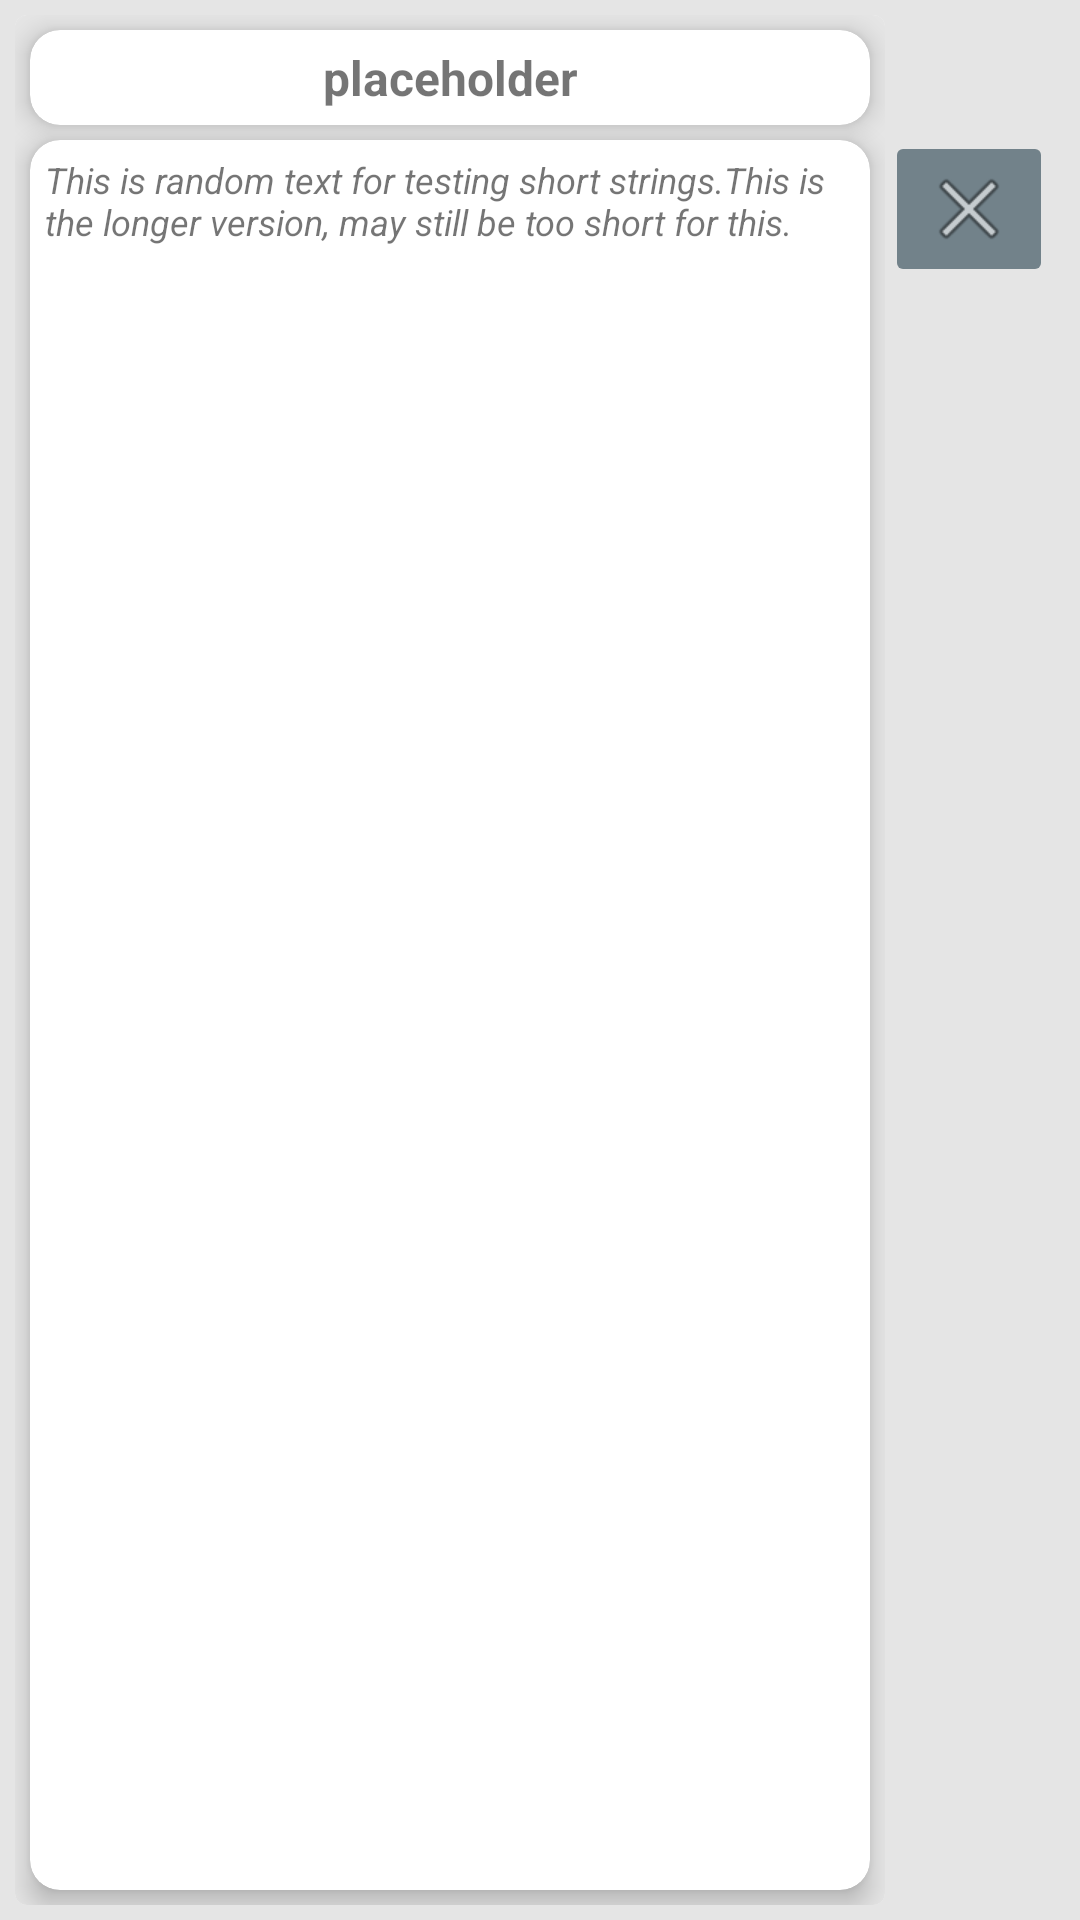

Locate icon controls on the screen. Image size 1080*1920, boxes as (x1, y1, x2, y2).
Delete Message: (897, 149, 1041, 269)
